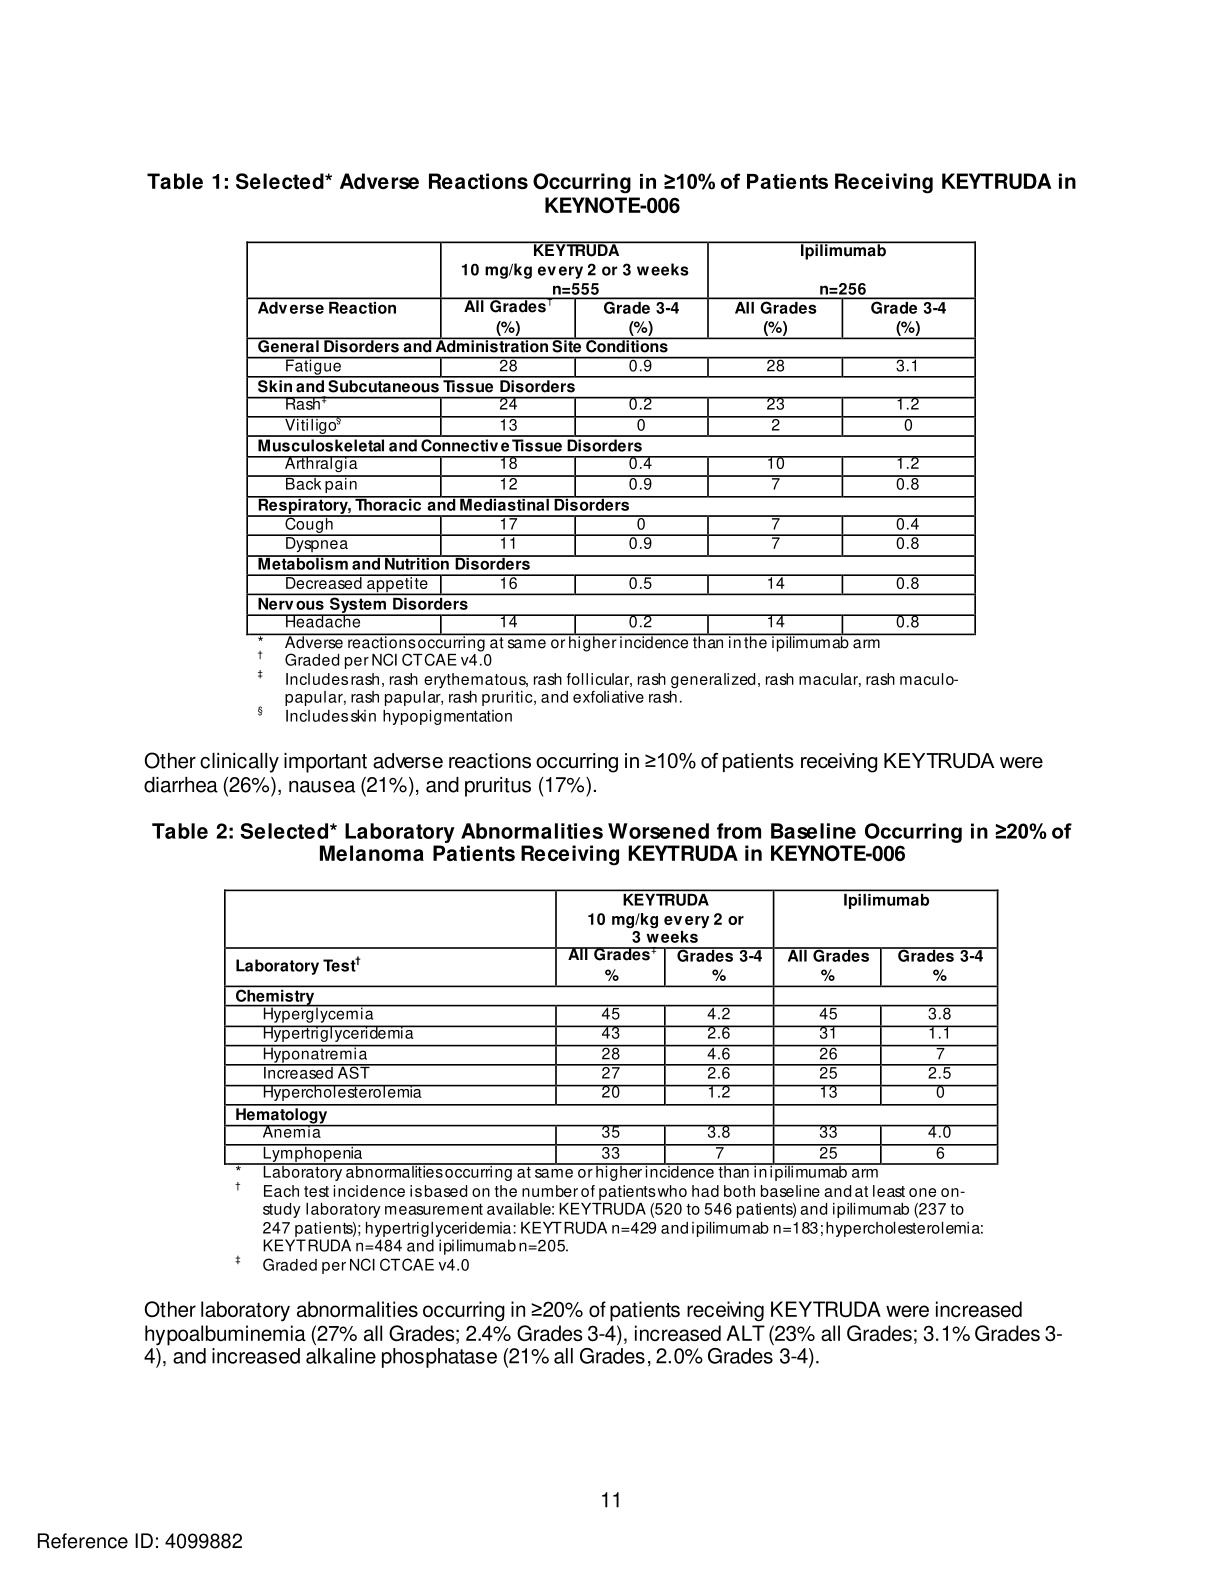merged_cells: (246, 240, 976, 636), (222, 888, 999, 1165)
